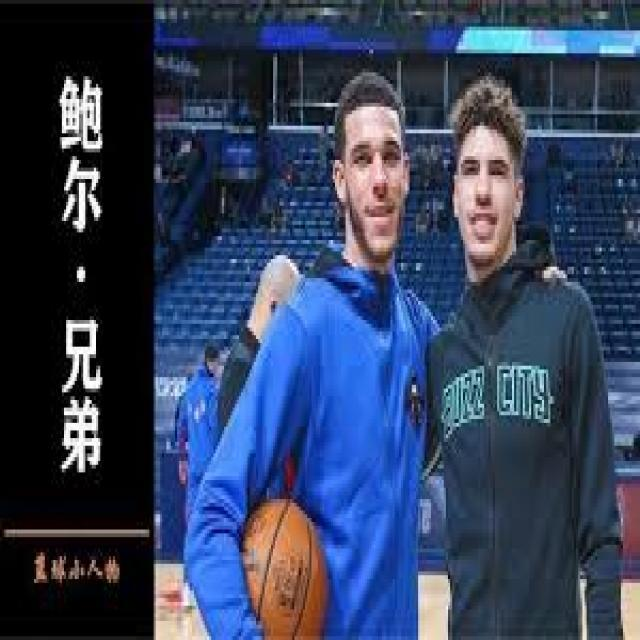rim: (236, 499, 326, 640)
